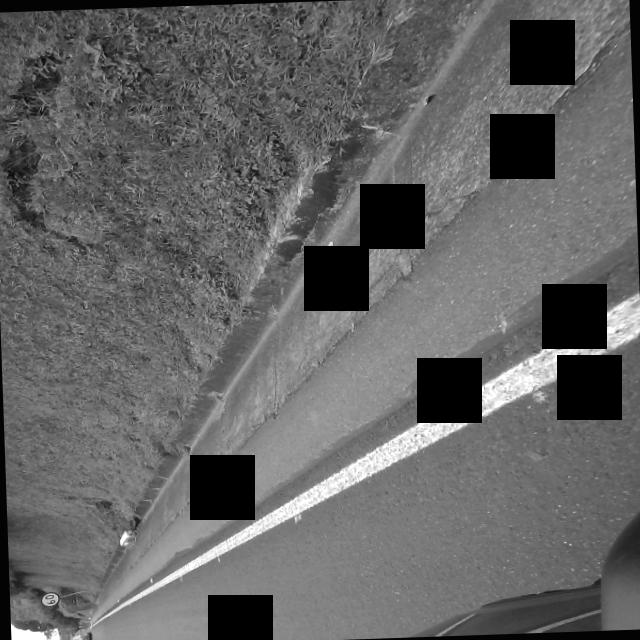DITCH: (65, 0, 640, 631)
